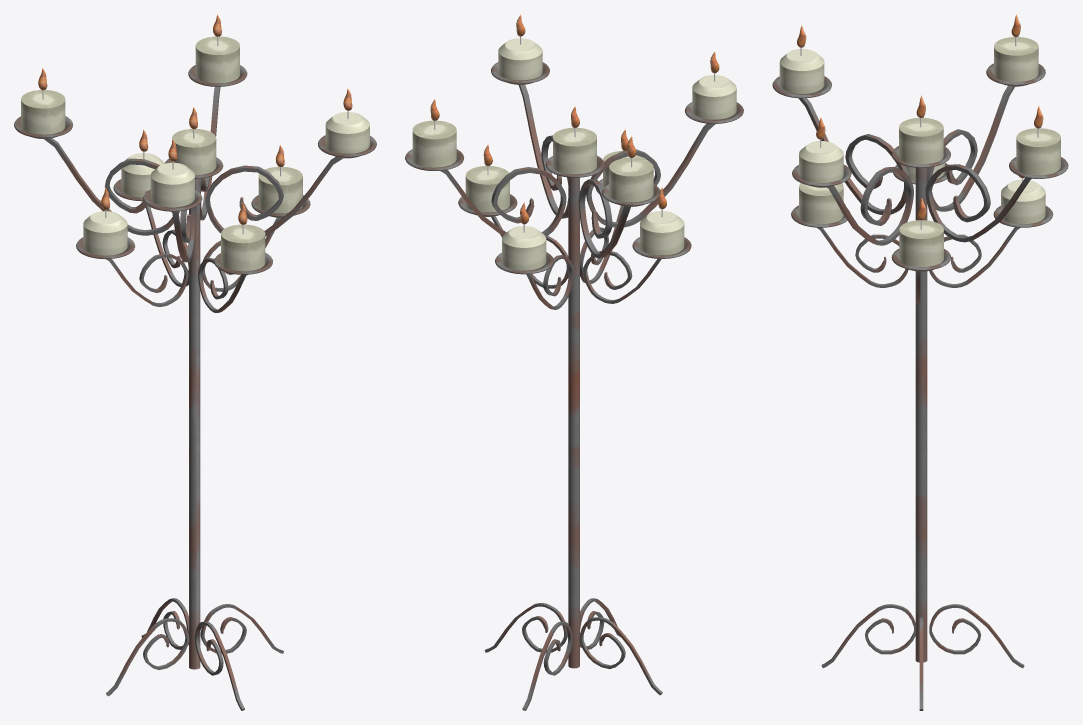
The model's file is Castiçal.fbx.
3 views of the same model, side by side, from view 1: azimuth 30°, elevation 25°; view 2: azimuth 150°, elevation 25°; view 3: azimuth 270°, elevation 25° (orthographic).
Visible parts, largest first — view 1: Cylinder.004; view 2: Cylinder.004; view 3: Cylinder.004.
Part boxes in pixels (bbox=[...]): Cylinder.004: bbox=[14, 14, 376, 710]; Cylinder.004: bbox=[405, 14, 743, 710]; Cylinder.004: bbox=[772, 14, 1068, 710].
Size of the model in its own units: 61.99 by 137 by 61.02.
